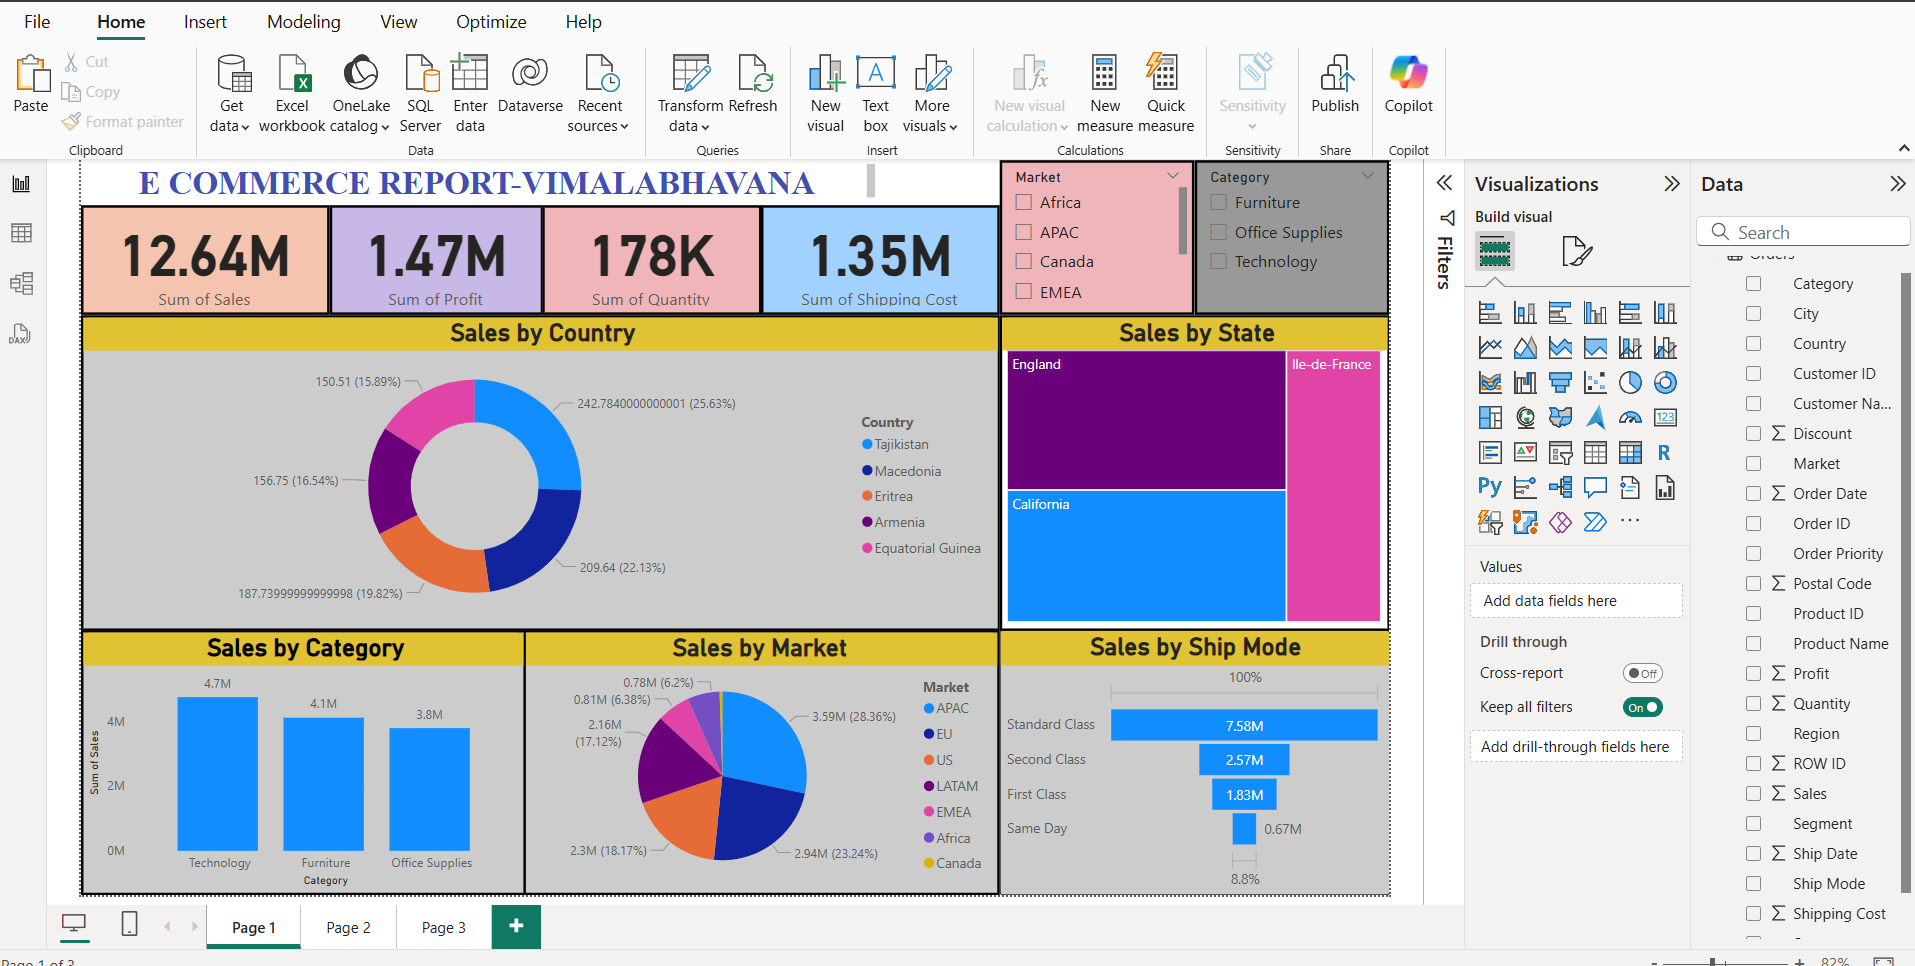

What the dashboard file says about the page in this screenshot:
{"tool":"powerbi","page":{"name":"Page 1","canvas":[1280,720],"ordinal":0},"visuals":[{"type":"pieChart","title":" Sales by Market","fields":{"Category":["Orders.Market"],"Y":["Sum(Orders.Sales)"]},"box":[424,461.1,474.8,259.3],"z":0},{"type":"columnChart","title":" Sales by Category","fields":{"Category":["Orders.Category"],"Y":["Sum(Orders.Sales)"]},"box":[0,461.1,435,259.3],"z":1000},{"type":"funnel","title":"Sales by Ship Mode","fields":{"Y":["Sum(Orders.Sales)"],"Category":["Orders.Ship Mode"]},"box":[898.8,461.1,381.5,259.3],"z":2000},{"type":"donutChart","title":" Sales by Country","fields":{"Category":["Orders.Country"],"Y":["Sum(Orders.Sales)"]},"box":[0,152.3,898.8,308.7],"z":3000},{"type":"treemap","title":" Sales by State","fields":{"Values":["Sum(Orders.Sales)"],"Group":["Orders.State"]},"box":[898.8,152.3,381.5,308.7],"z":4000},{"type":"textbox","box":[0,0,782.2,45.3],"z":5000},{"type":"card","fields":{"Values":["Sum(Orders.Sales)"]},"box":[0,45.3,242.9,107],"z":6000},{"type":"card","fields":{"Values":["Sum(Orders.Profit)"]},"box":[242.9,45.3,208.6,107],"z":7000},{"type":"card","fields":{"Values":["Sum(Orders.Quantity)"]},"box":[451.5,45.3,214.1,107],"z":8000},{"type":"card","fields":{"Values":["Sum(Orders.Shipping Cost)"]},"box":[665.5,45.3,233.3,107],"z":9000},{"type":"slicer","fields":{"Values":["Orders.Market"]},"box":[898.8,1.4,190.7,150.9],"z":10000},{"type":"slicer","fields":{"Values":["Orders.Category"]},"box":[1089.5,1.4,190.7,150.9],"z":11000}]}

Visuals, with their boxes on the page's 1280x720 design canvas (x1, y1, x2, y2). These are canvas units, not pixel positions in the 1915x966 screenshot, which may show the page scaled, cropped or inside an application window:
" Sales by Market" pieChart: l=424, t=461, r=899, b=720
" Sales by Category" columnChart: l=0, t=461, r=435, b=720
"Sales by Ship Mode" funnel: l=899, t=461, r=1280, b=720
" Sales by Country" donutChart: l=0, t=152, r=899, b=461
" Sales by State" treemap: l=899, t=152, r=1280, b=461
textbox: l=0, t=0, r=782, b=45
card - Sum(Orders.Sales): l=0, t=45, r=243, b=152
card - Sum(Orders.Profit): l=243, t=45, r=452, b=152
card - Sum(Orders.Quantity): l=452, t=45, r=666, b=152
card - Sum(Orders.Shipping Cost): l=666, t=45, r=899, b=152
slicer - Orders.Market: l=899, t=1, r=1090, b=152
slicer - Orders.Category: l=1090, t=1, r=1280, b=152
